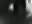person: (26, 1, 32, 20), (11, 3, 14, 13)
